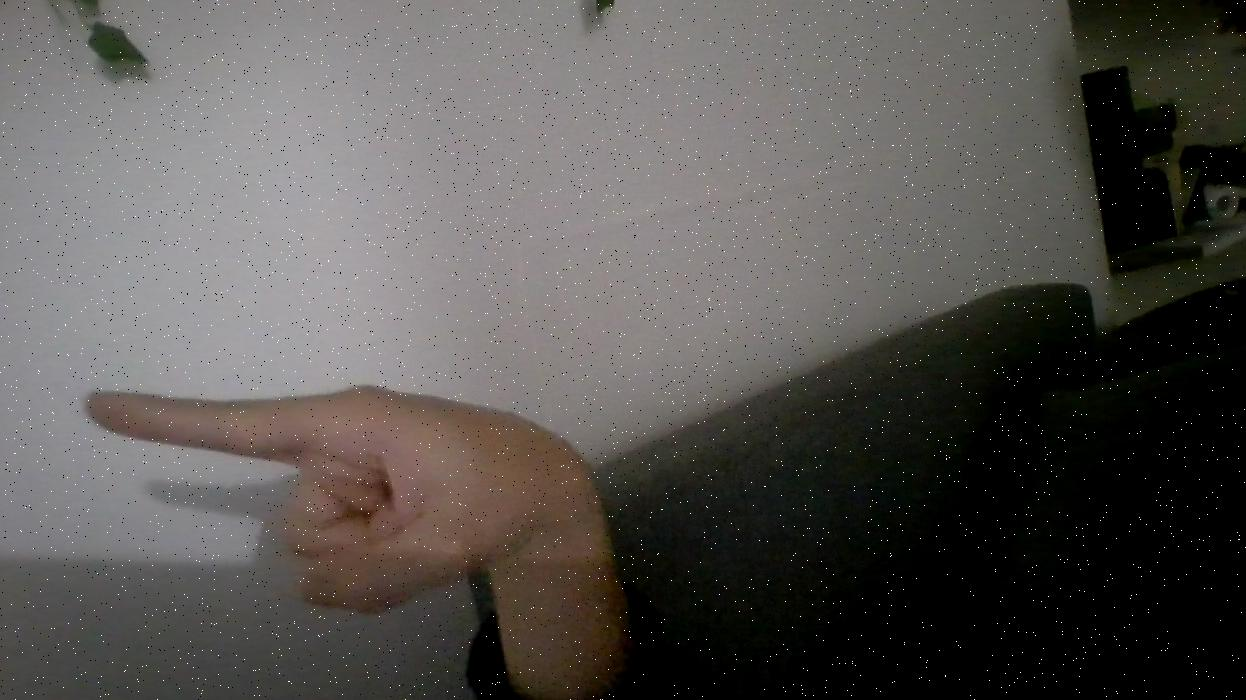left: (71, 364, 616, 634)
